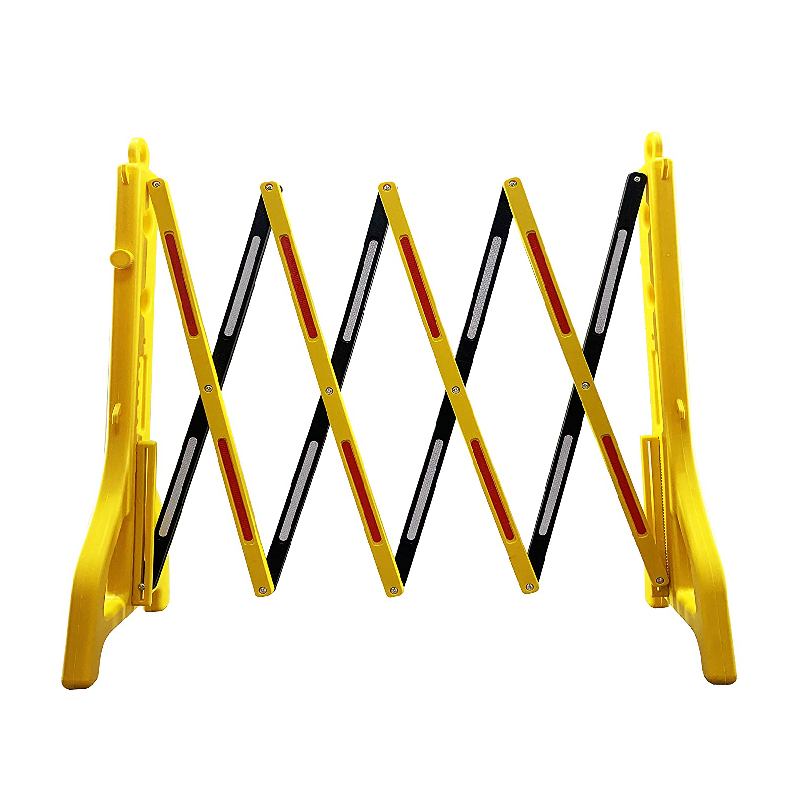Barrier: (33, 130, 751, 704)
